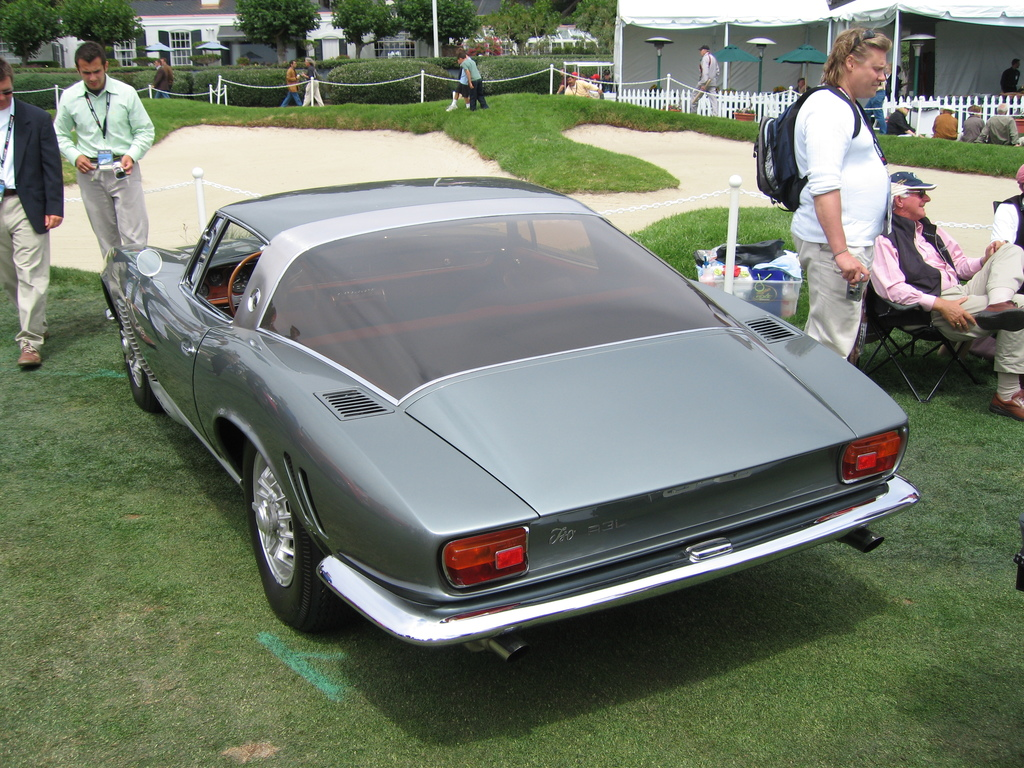Car: (101, 165, 926, 653)
